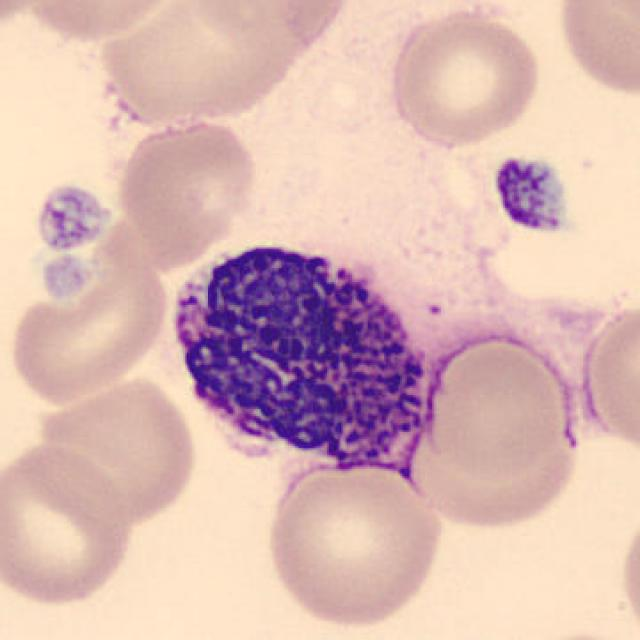Basophil: (156, 226, 450, 485)
Platelets: (491, 152, 569, 236), (32, 180, 112, 257)
RBC: (260, 453, 448, 631), (4, 240, 172, 405), (94, 0, 302, 129), (32, 372, 201, 525), (384, 3, 546, 150), (0, 439, 139, 610), (422, 333, 583, 479), (399, 415, 591, 531), (113, 115, 260, 261), (574, 296, 640, 458), (181, 0, 350, 56), (551, 0, 640, 100), (18, 0, 185, 42), (261, 0, 354, 48), (615, 499, 640, 640), (0, 0, 59, 41), (501, 627, 639, 640)
